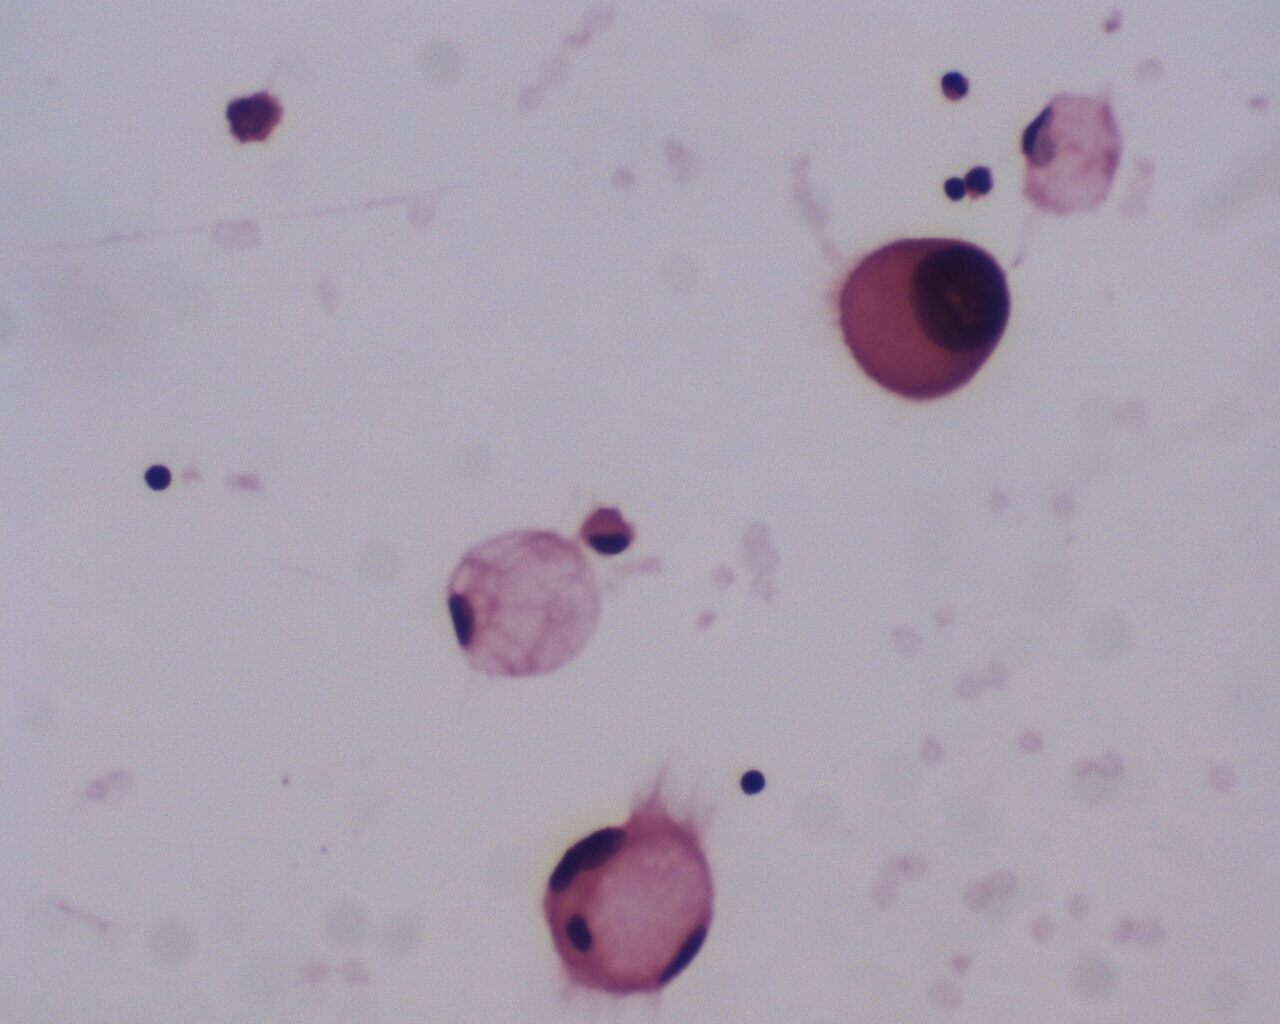ab: (838, 229, 1017, 412)
histo: (535, 802, 712, 998), (445, 527, 608, 681)
lymph: (737, 760, 771, 805), (139, 459, 177, 499)
